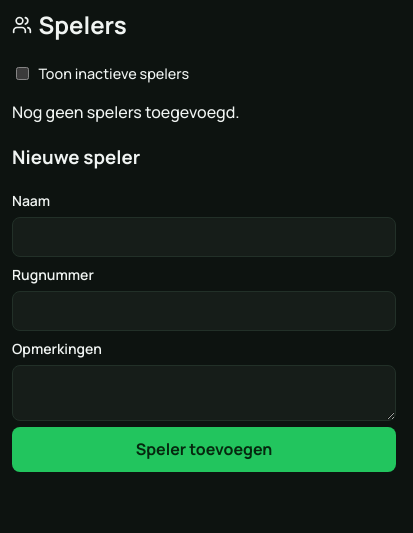
Scenario: PlayerListScreen › moves focus to the naam field when adding a player fails, instead of only showing red text
expect the text "Nog geen spelers toegevoegd." is shown: met, box [12, 101, 240, 123]
Type "Jan Jansen" into the field labelled "Naam" at (204, 237), box [12, 217, 396, 257]
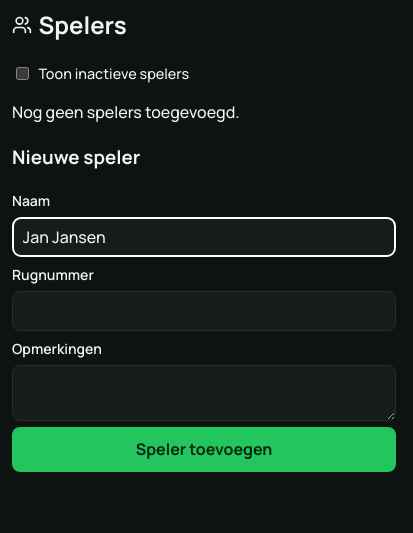
Click the button "Speler toevoegen" at (204, 450), box [12, 427, 396, 472]
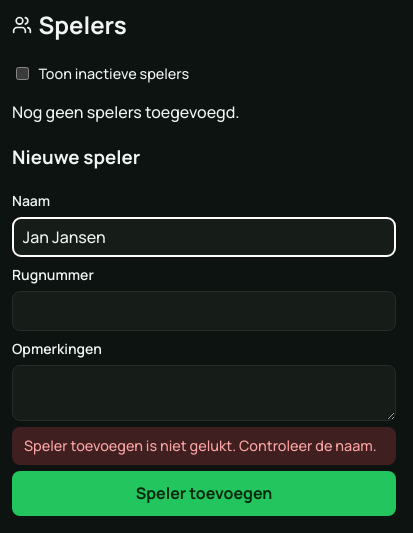
expect the message shows "niet gelukt": met, box [24, 436, 377, 455]
